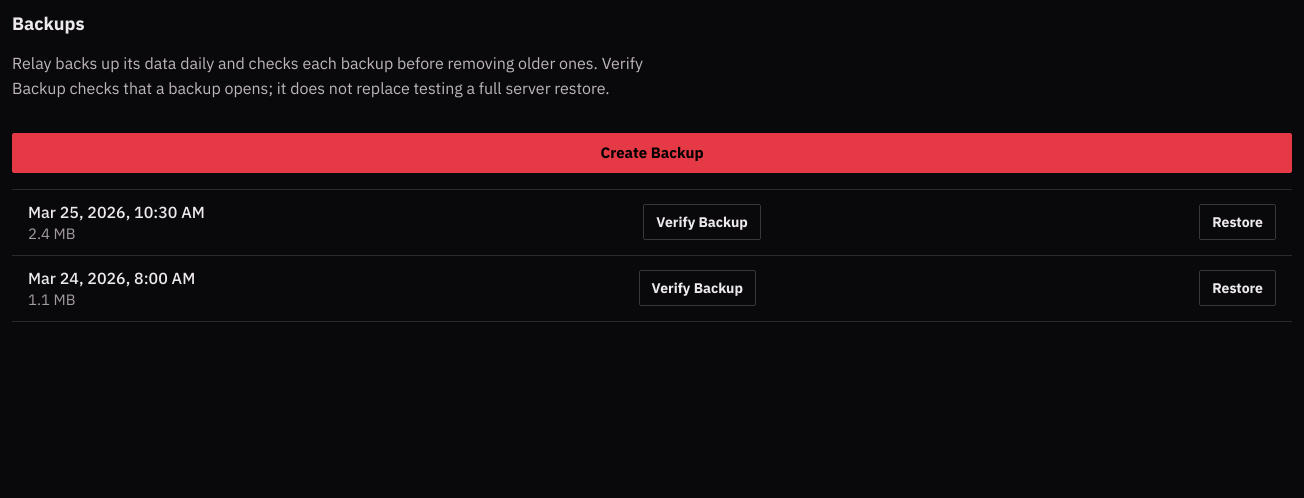
it: DataManagerBackups › shows background failure, preserves action errors, and stops refreshing on unmount
Click the button "Create Backup": [652, 153] box [12,133,1292,173]
Wait 5000 ms
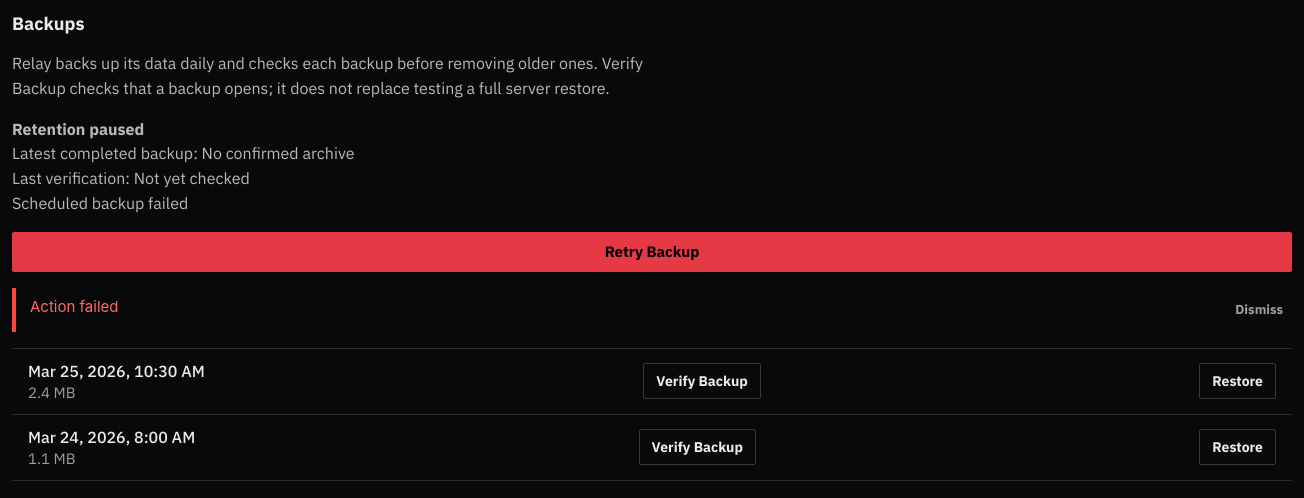
Expected: the text "Scheduled backup failed" is shown, [12,193,188,213]
Expected: the text "Action failed" is shown, [30,296,118,324]
